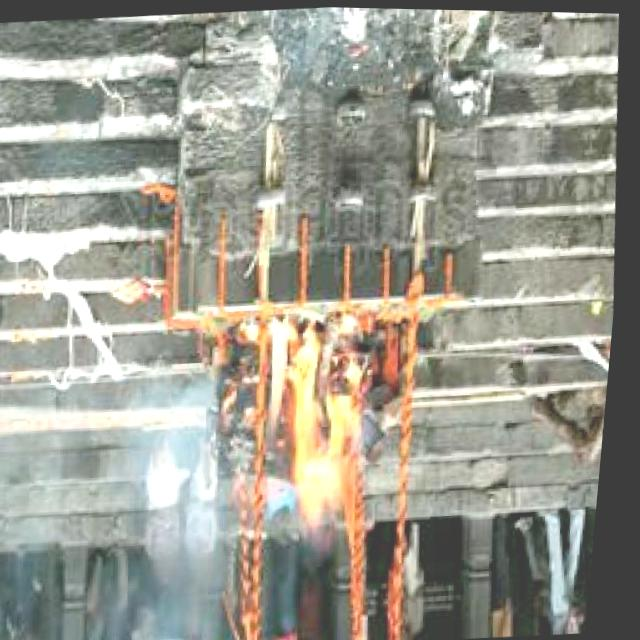helmet: (253, 306, 386, 534)
